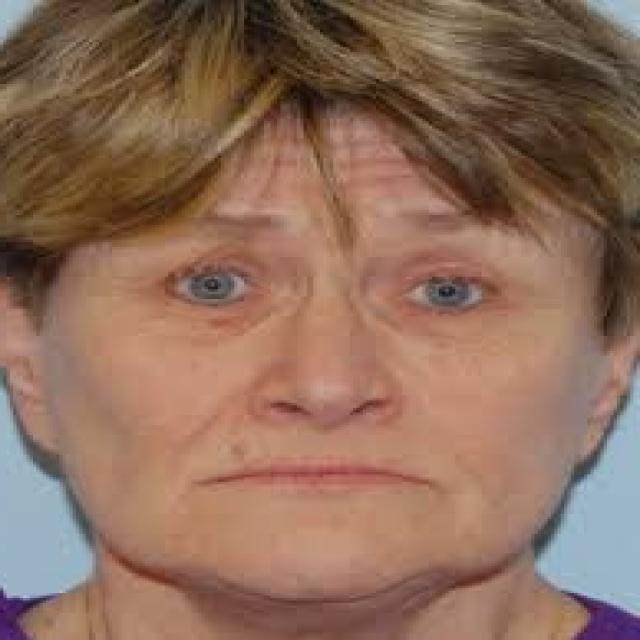normal_face: (15, 0, 640, 592)
